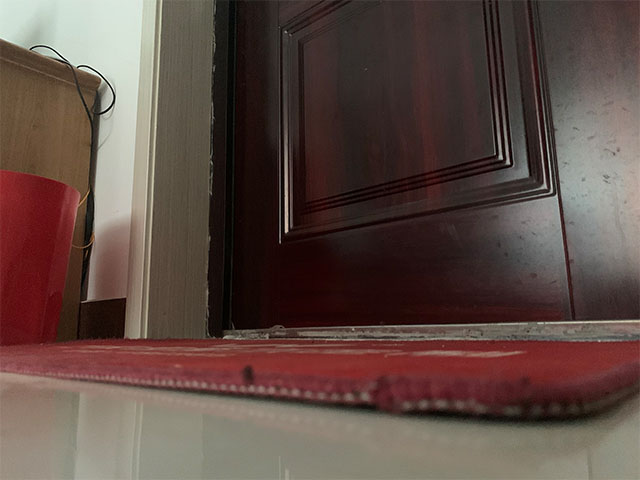carpet: (1, 339, 637, 427)
trashcan: (1, 169, 82, 346)
